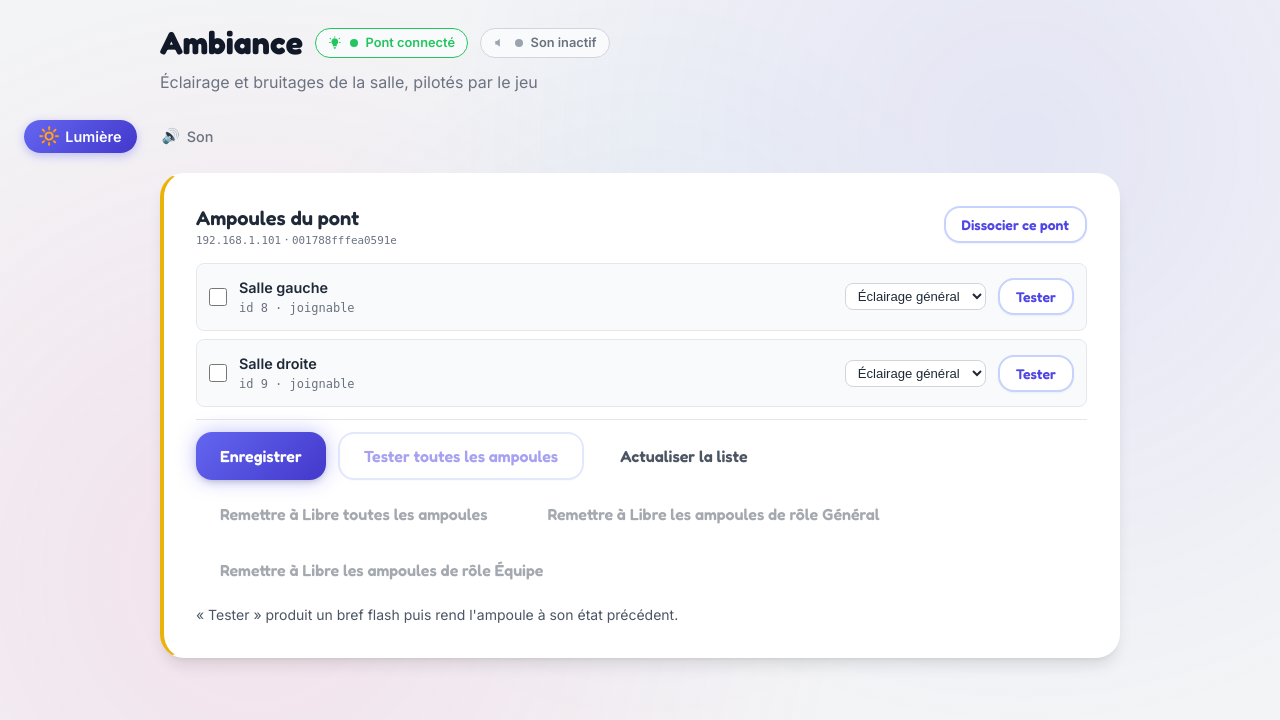
Scenario: AmbiancePage — P2b : allumage/extinction immédiat › refused (association révoquée) : message dédié
The image size is (1280, 720).
Check: the text "Salle gauche" is shown, box [239, 279, 328, 296]
Click the checkbox labelled "Salle gauche" at [218, 297], box [209, 288, 227, 306]
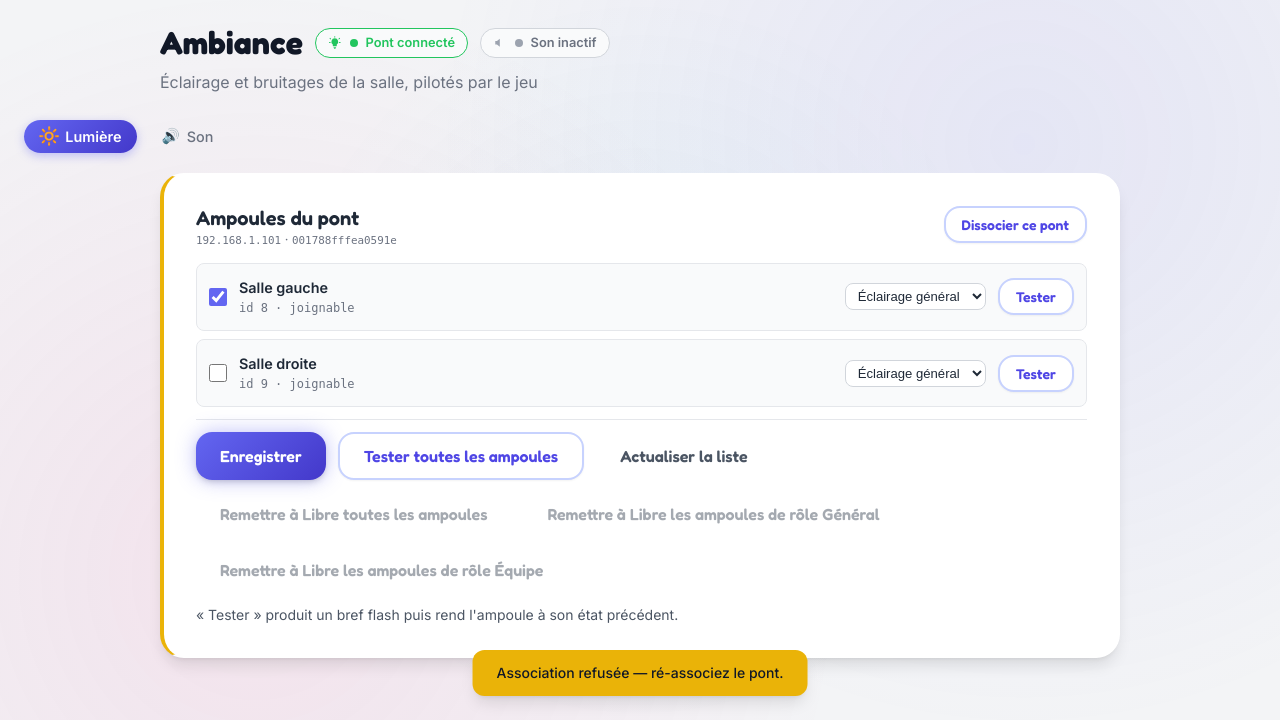
Check: the text "Association refusée — ré-associez le pont." is shown, box [472, 650, 808, 696]
